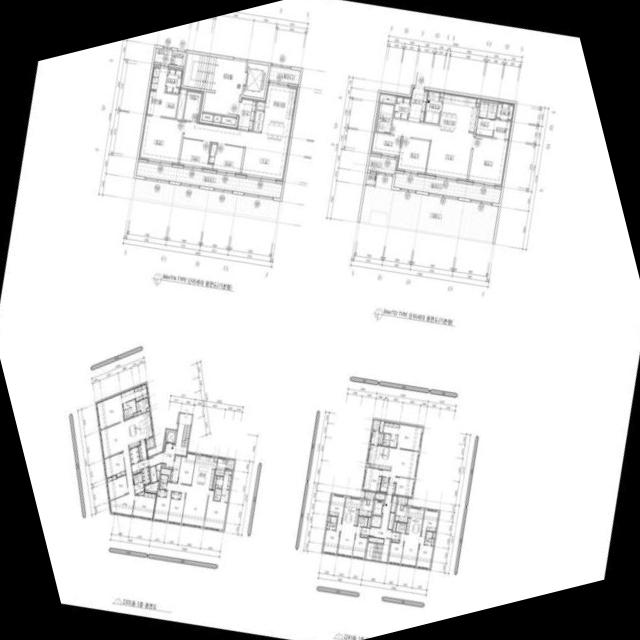background: (0, 0, 640, 640)
space_balconi: (135, 161, 282, 198), (393, 172, 500, 203), (267, 65, 300, 84), (367, 155, 396, 173), (153, 47, 171, 63), (145, 436, 154, 448), (225, 458, 233, 469)
space_bedroom: (138, 115, 183, 164), (467, 135, 508, 186), (395, 137, 429, 174), (207, 142, 243, 174), (179, 138, 212, 170), (95, 393, 123, 429), (203, 489, 227, 530), (370, 132, 401, 157), (131, 491, 156, 519), (395, 424, 421, 450), (177, 452, 195, 484), (105, 474, 127, 500), (153, 490, 171, 521), (167, 492, 185, 523), (103, 452, 125, 477), (362, 467, 382, 491), (420, 509, 437, 536), (328, 495, 344, 523), (322, 529, 339, 553), (415, 543, 432, 567), (394, 476, 413, 496), (387, 540, 403, 563), (351, 533, 366, 557), (170, 491, 180, 498), (156, 489, 166, 496)
space_dressroom: (148, 64, 167, 91), (164, 66, 182, 93), (492, 119, 511, 139), (495, 101, 514, 120), (133, 383, 147, 401), (382, 421, 398, 434), (221, 470, 231, 489), (214, 475, 222, 488)
space_elevator: (242, 62, 268, 97), (163, 429, 176, 443), (372, 499, 383, 515)
space_elevator_hall: (202, 57, 245, 116), (148, 413, 191, 467), (368, 494, 391, 544)
space_front: (407, 87, 427, 122), (236, 97, 256, 130), (392, 95, 410, 119), (169, 455, 180, 482), (130, 458, 148, 474), (129, 446, 139, 464), (141, 466, 150, 485), (386, 483, 395, 494), (359, 527, 368, 537), (391, 531, 399, 542)
space_kitchen: (260, 82, 297, 137), (438, 92, 477, 132), (124, 410, 152, 448), (393, 504, 423, 536), (341, 497, 373, 525), (190, 454, 216, 488), (367, 444, 393, 470)
space_living_room: (183, 121, 289, 181), (390, 118, 473, 180), (99, 421, 134, 515), (165, 482, 208, 527), (381, 448, 417, 483), (335, 523, 360, 555), (399, 533, 424, 565)
space_multipurpose_space: (423, 90, 441, 123)
space_other: (175, 87, 186, 119), (252, 110, 263, 131), (135, 397, 148, 413), (215, 457, 226, 475), (137, 439, 146, 460), (378, 92, 395, 103), (370, 430, 383, 444), (144, 480, 158, 491), (370, 515, 381, 527), (160, 467, 170, 480), (220, 116, 235, 124), (389, 495, 396, 512), (387, 512, 394, 529), (149, 465, 156, 482), (367, 536, 383, 543), (200, 112, 212, 121), (155, 463, 160, 480), (256, 99, 264, 109), (212, 114, 220, 122), (374, 493, 384, 499), (379, 421, 383, 432), (212, 475, 215, 489), (366, 517, 370, 527), (392, 521, 396, 531), (132, 410, 140, 415), (475, 97, 479, 106), (439, 92, 443, 100), (136, 491, 143, 495), (162, 443, 165, 451), (213, 456, 217, 461), (145, 407, 149, 411), (327, 515, 329, 521), (432, 532, 434, 537), (399, 506, 402, 509), (366, 463, 369, 466), (161, 463, 164, 466), (366, 500, 368, 504)
space_outdoor_room: (170, 50, 185, 66), (365, 172, 375, 184), (363, 491, 374, 500), (371, 419, 380, 430), (396, 496, 407, 505)
space_staircase: (182, 52, 220, 90), (365, 542, 388, 562), (180, 424, 189, 447)
space_toilet: (145, 90, 178, 117), (375, 103, 393, 133), (182, 91, 200, 121), (475, 117, 494, 136), (122, 399, 136, 419), (120, 388, 134, 402), (382, 433, 397, 446), (486, 102, 496, 119), (478, 101, 488, 117), (423, 531, 433, 545), (379, 476, 388, 491), (158, 474, 167, 489), (326, 516, 336, 529), (395, 521, 406, 532), (356, 515, 367, 526), (133, 481, 143, 493), (219, 489, 228, 501), (136, 472, 142, 482), (212, 493, 220, 500), (132, 473, 137, 484), (213, 488, 221, 494)
